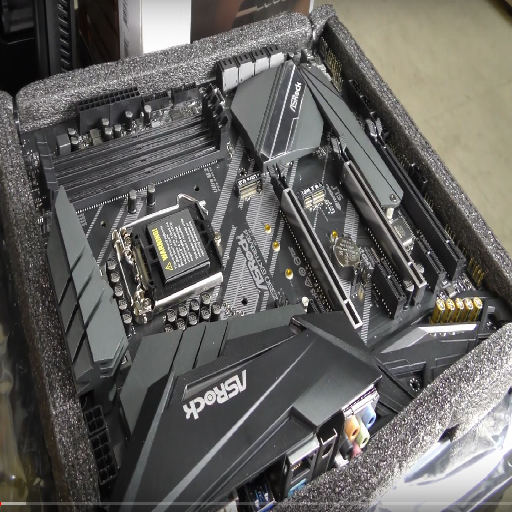CPU: (113, 200, 226, 321)
GPU: (365, 116, 465, 281), (330, 134, 426, 304), (267, 162, 364, 329)
MOTHERBOARD: (16, 47, 508, 510)
RAM: (35, 82, 230, 217)
SSD: (300, 181, 327, 208), (234, 171, 261, 197)
